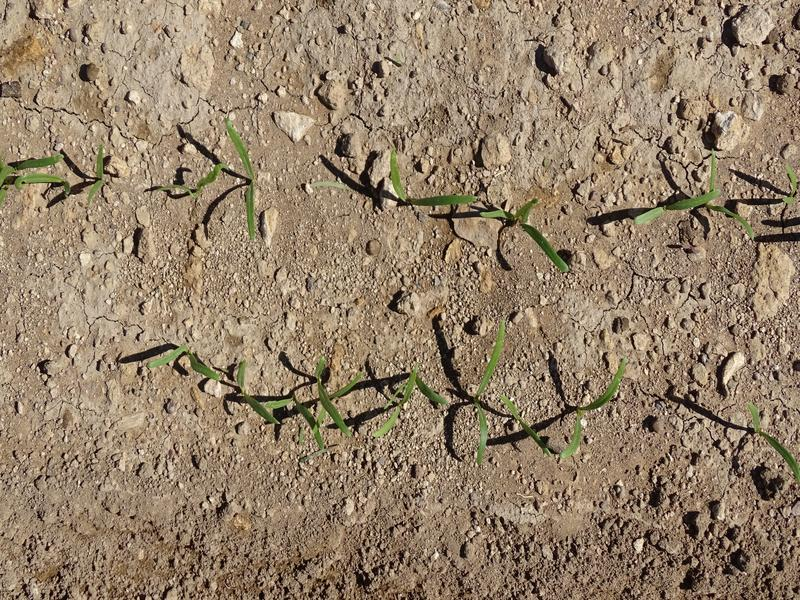Espinaca: (224, 363, 355, 448), (562, 363, 624, 468), (466, 320, 509, 468), (485, 204, 573, 275), (385, 151, 474, 209), (379, 363, 450, 435), (225, 114, 264, 244), (743, 401, 800, 483), (624, 187, 717, 225), (155, 159, 226, 200), (147, 346, 219, 384), (1, 155, 72, 191), (503, 396, 546, 451), (89, 146, 109, 212)
